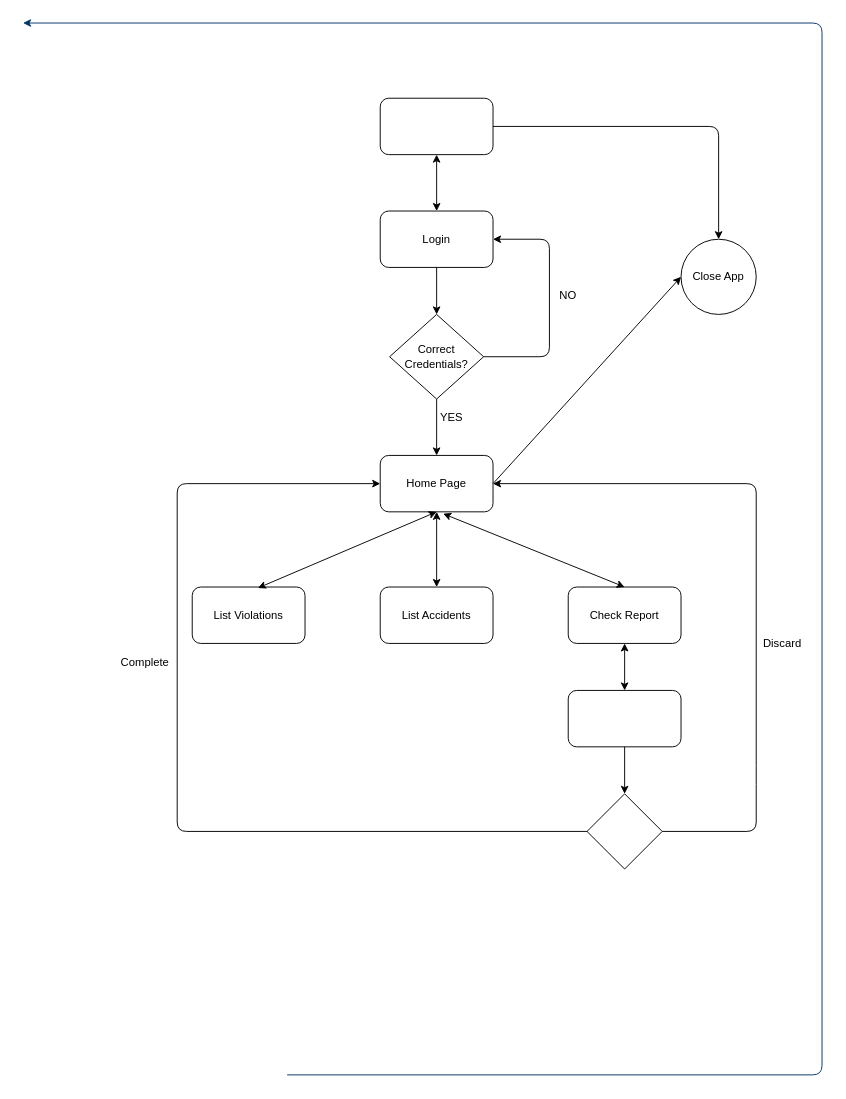
The diagram is 846 pixels wide and 1099 high, and some of its shapes have lost their labels. The centre of each missing label's shape, as x and y in pixels:
"Close" belongs at point (624, 831).
"Select Report" belongs at point (624, 718).
"Startup page" belongs at point (436, 126).
